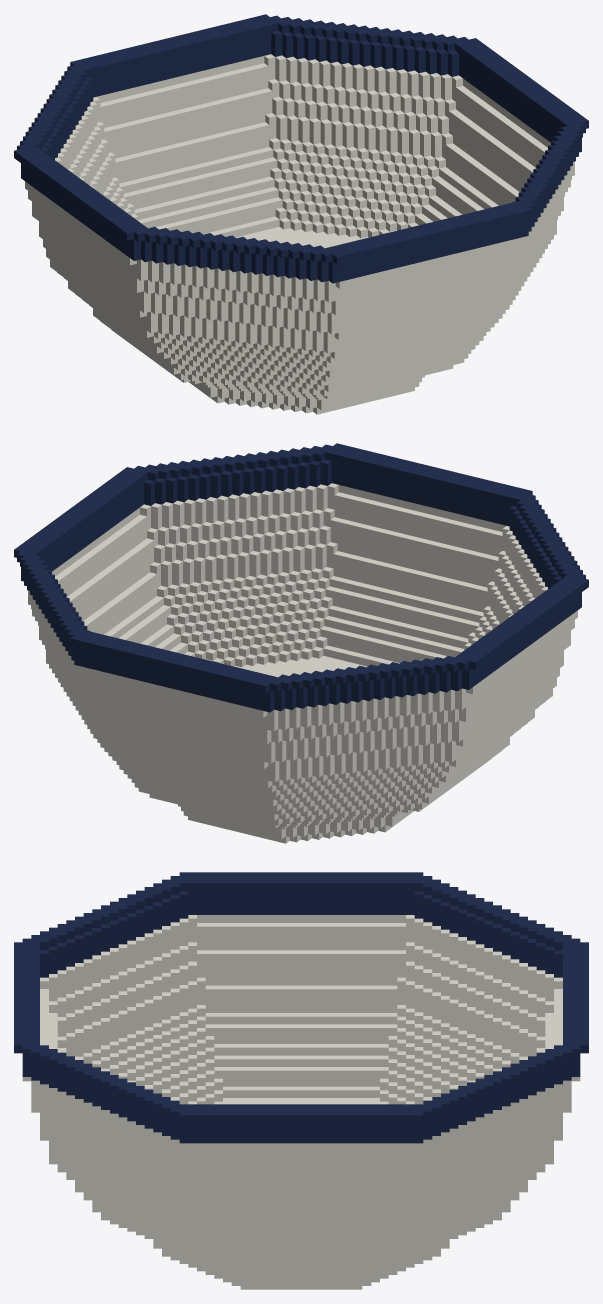
The model's file is ceramic_bowl.glb.
The picture shows the model from 3 angles, top to bottom: view 1: azimuth 30°, elevation 25°; view 2: azimuth 150°, elevation 25°; view 3: azimuth 270°, elevation 25°; orthographic projection. The views are drawn at different scales.
Parts seen in each view (by area): view 1: ceramic_bowl:compound; view 2: ceramic_bowl:compound; view 3: ceramic_bowl:compound.
Boxes of the visible parts, x1=… form: ceramic_bowl:compound: x1=14, y1=14, x2=588, y2=414; ceramic_bowl:compound: x1=14, y1=443, x2=588, y2=843; ceramic_bowl:compound: x1=14, y1=872, x2=588, y2=1289.
Size of the model in its own units: 0.132 by 0.06 by 0.132.
